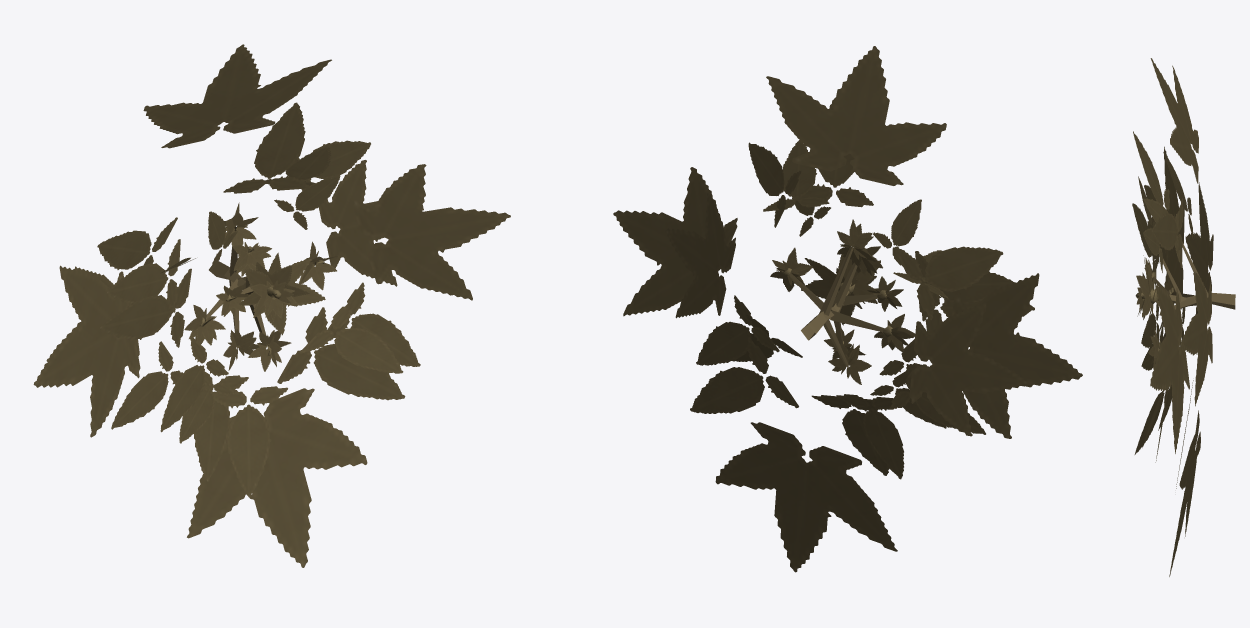
File: p_auto_preflower_c4_cards.obj
3 views of the same model, side by side, from view 1: azimuth 30°, elevation 25°; view 2: azimuth 150°, elevation 25°; view 3: azimuth 270°, elevation 25° (orthographic). The views are drawn at different scales.
Bounding box in the file's own units: 1.28 × 1.31 × 0.245.
Materials: 1 (1 with a texture image).
